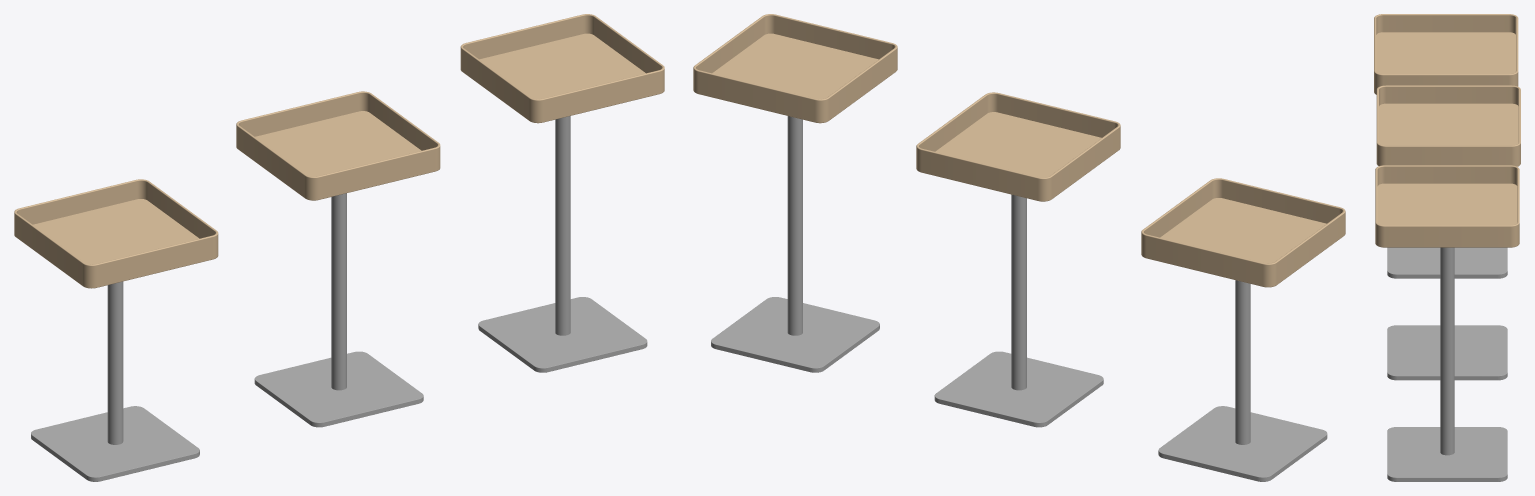
Rendered from mesa-auxiliar-lambrusco.glb.
3 renders of one model, left to right at view 1: azimuth 30°, elevation 25°; view 2: azimuth 150°, elevation 25°; view 3: azimuth 270°, elevation 25°, orthographic. The views are drawn at different scales.
Size of the model in its own units: 1.3 by 0.5986 by 0.3054.
